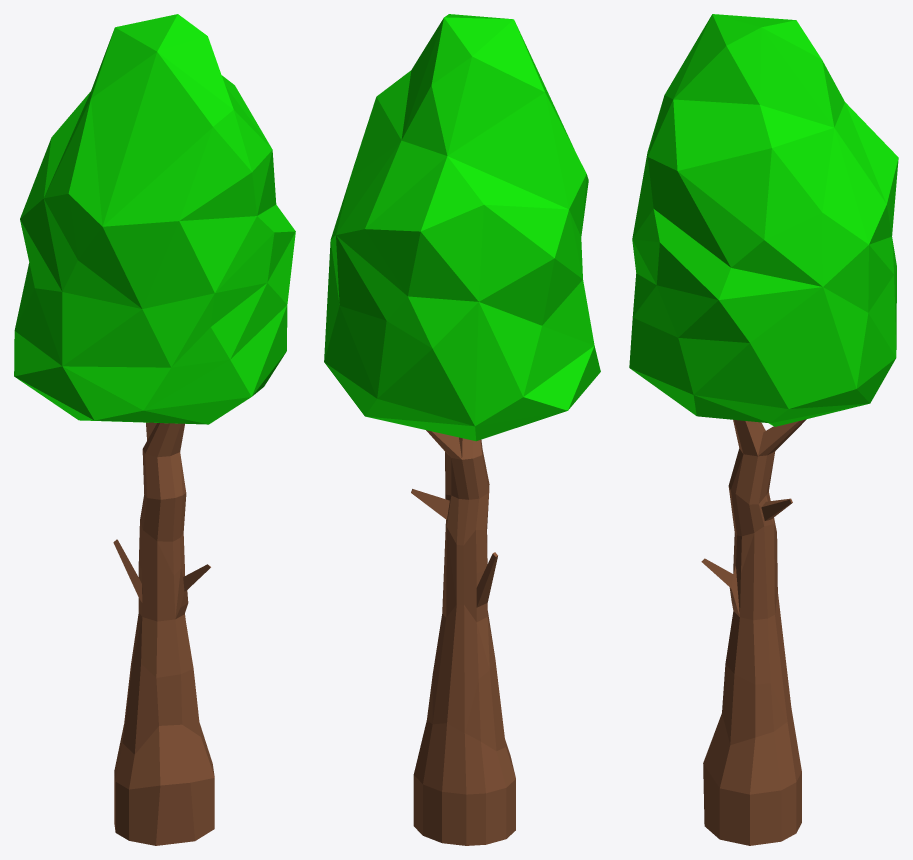
Rendered from Tree.gltf.
3 renders of one model, left to right at view 1: azimuth 30°, elevation 25°; view 2: azimuth 150°, elevation 25°; view 3: azimuth 270°, elevation 25°, orthographic.
Parts seen in each view (by area): view 1: Leaves, Trunk; view 2: Leaves, Trunk; view 3: Leaves, Trunk.
Part boxes in pixels (left/top/right/bottom): Leaves: left=14, top=14, right=295, bottom=424; Trunk: left=113, top=422, right=214, bottom=845; Leaves: left=324, top=14, right=600, bottom=441; Trunk: left=411, top=430, right=515, bottom=845; Leaves: left=629, top=14, right=898, bottom=426; Trunk: left=701, top=419, right=806, bottom=845.
Size of the model in its own units: 14.16 by 45.24 by 13.73.
